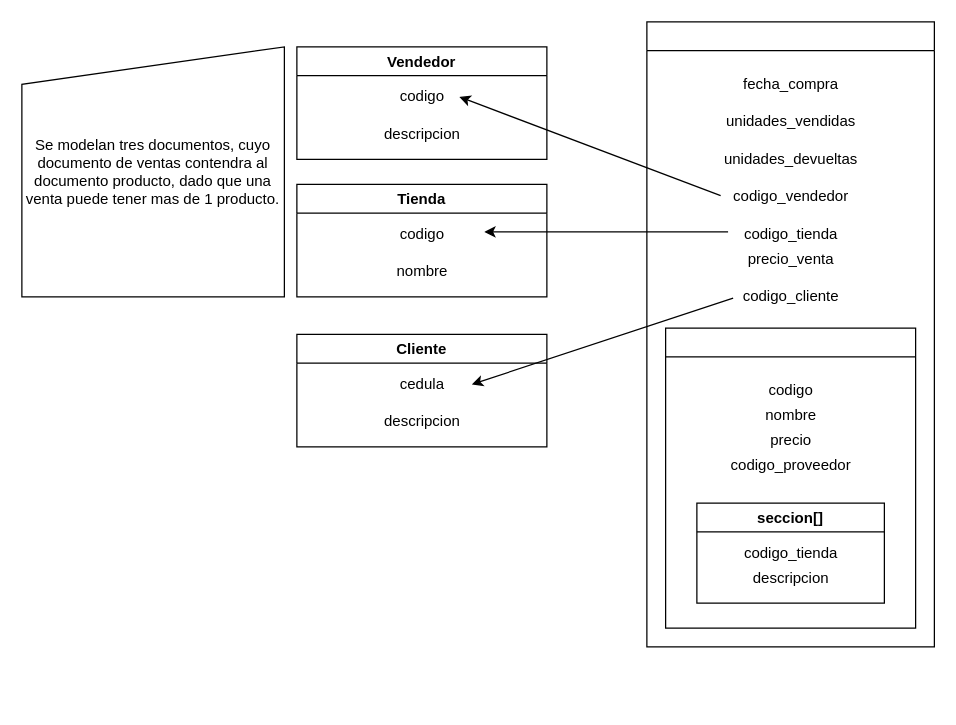
Image size: 956x725. Some labels were removed from this diagram. Each missing label, with the box of its shape:
Producto[]: (664, 327, 916, 628)
Ventas: (646, 21, 934, 647)
